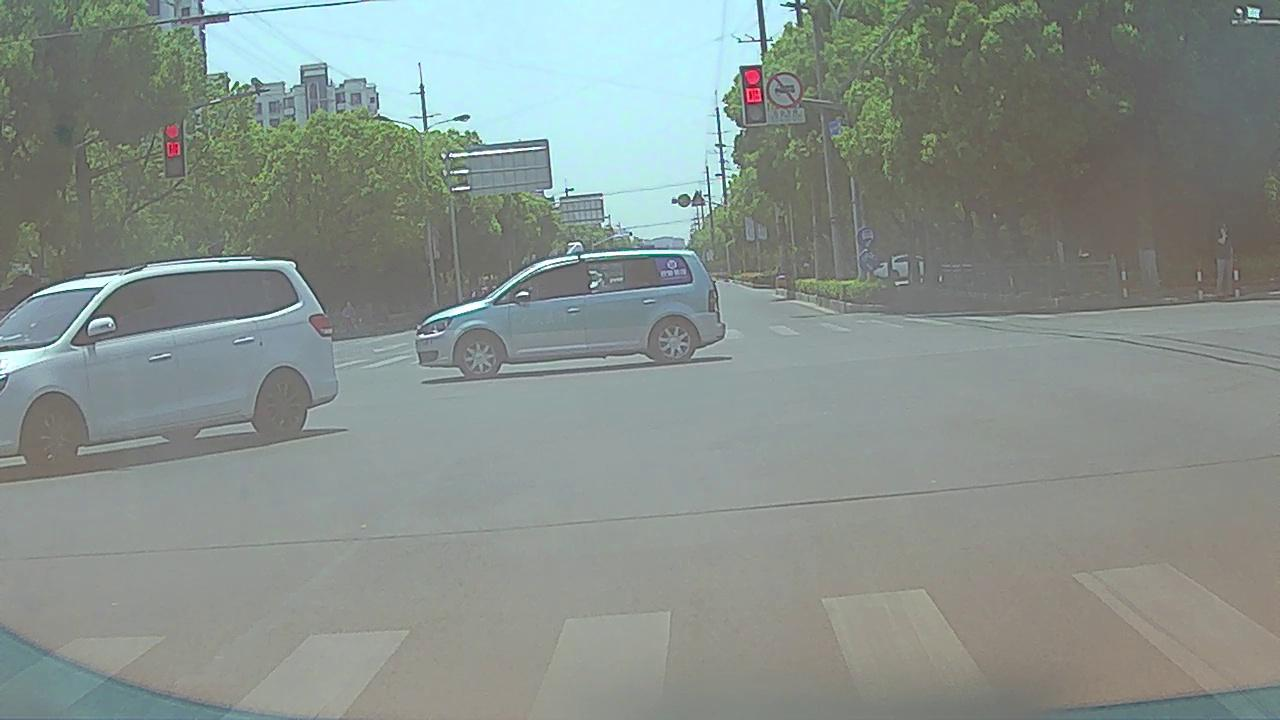traffic_light: (743, 68, 766, 125), (164, 123, 184, 175)
